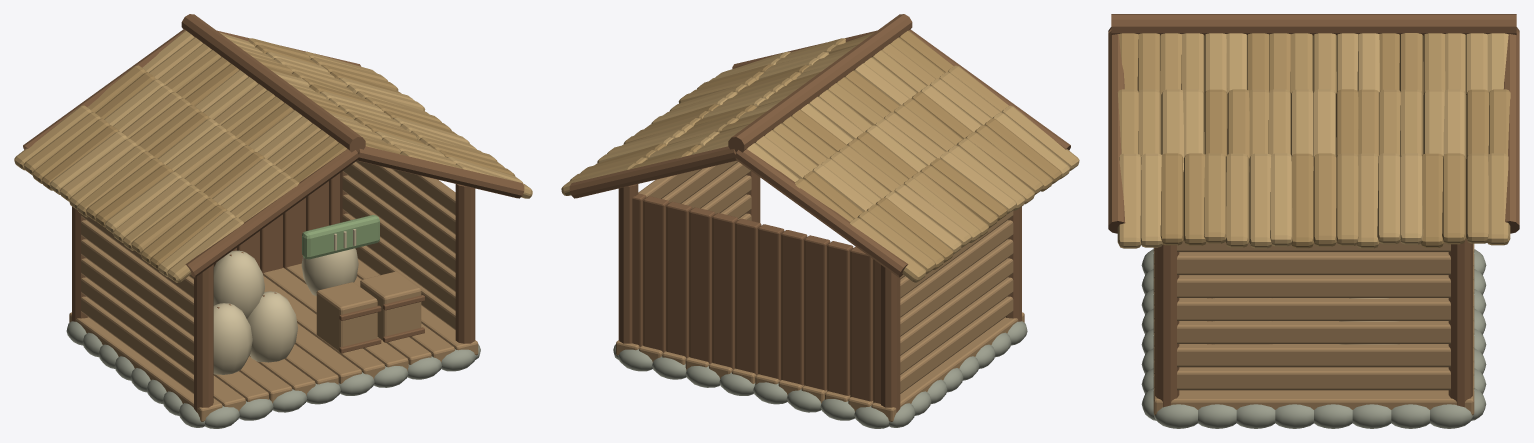
The model's file is CC_Storage.fbx.
The picture shows the model from 3 angles, left to right: view 1: azimuth 30°, elevation 25°; view 2: azimuth 150°, elevation 25°; view 3: azimuth 270°, elevation 25°; orthographic projection. The views are drawn at different scales.
Parts seen in each view (by area): view 1: CC_Storage_StoryMesh; view 2: CC_Storage_StoryMesh; view 3: CC_Storage_StoryMesh.
Part boxes in pixels (left/top/right/bottom): CC_Storage_StoryMesh: left=14, top=14, right=532, bottom=428; CC_Storage_StoryMesh: left=561, top=14, right=1079, bottom=428; CC_Storage_StoryMesh: left=1108, top=14, right=1519, bottom=428.
Bounding box in the file's own units: 453 × 333 × 372.
